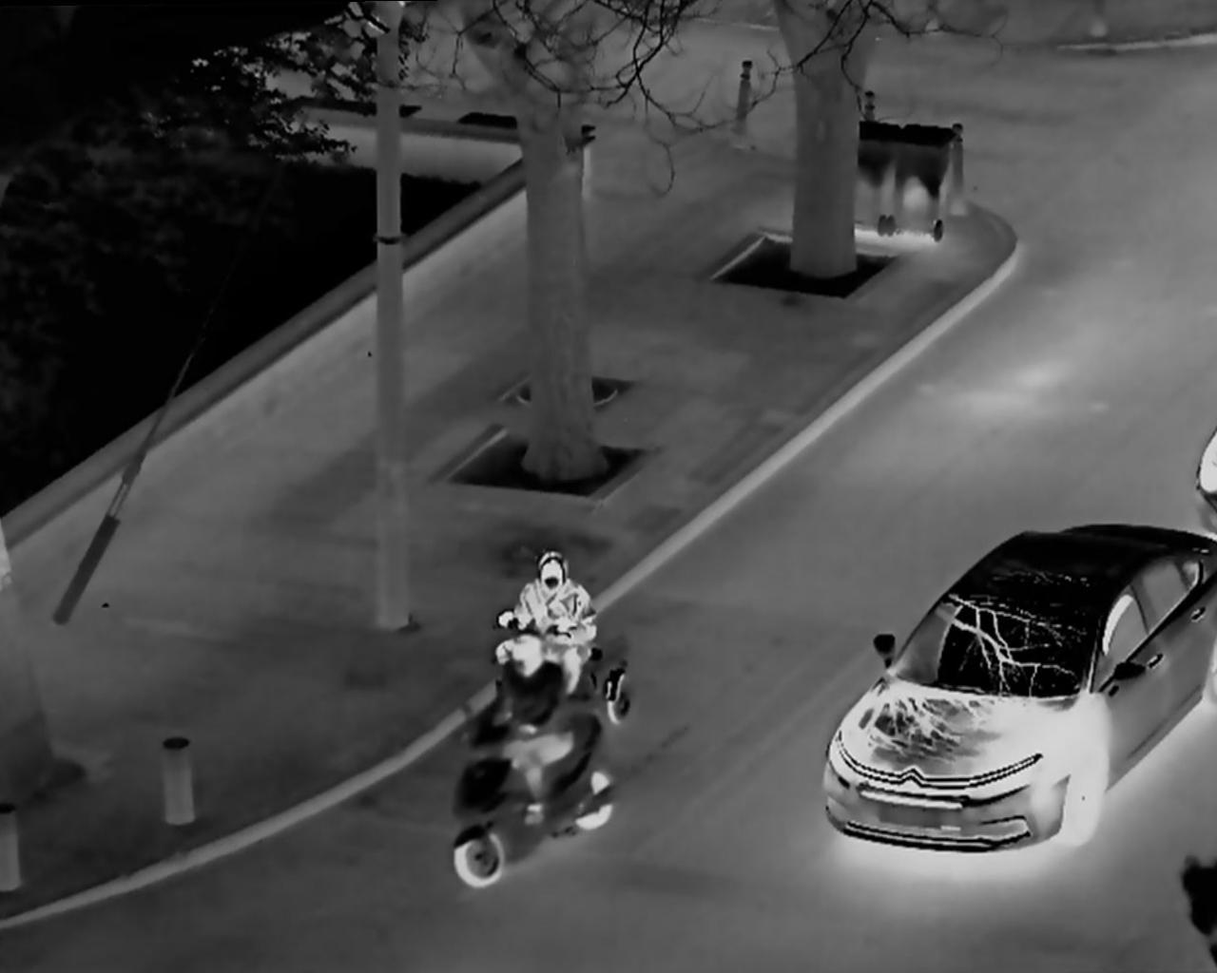person: (464, 633, 579, 852), (500, 534, 619, 707)
